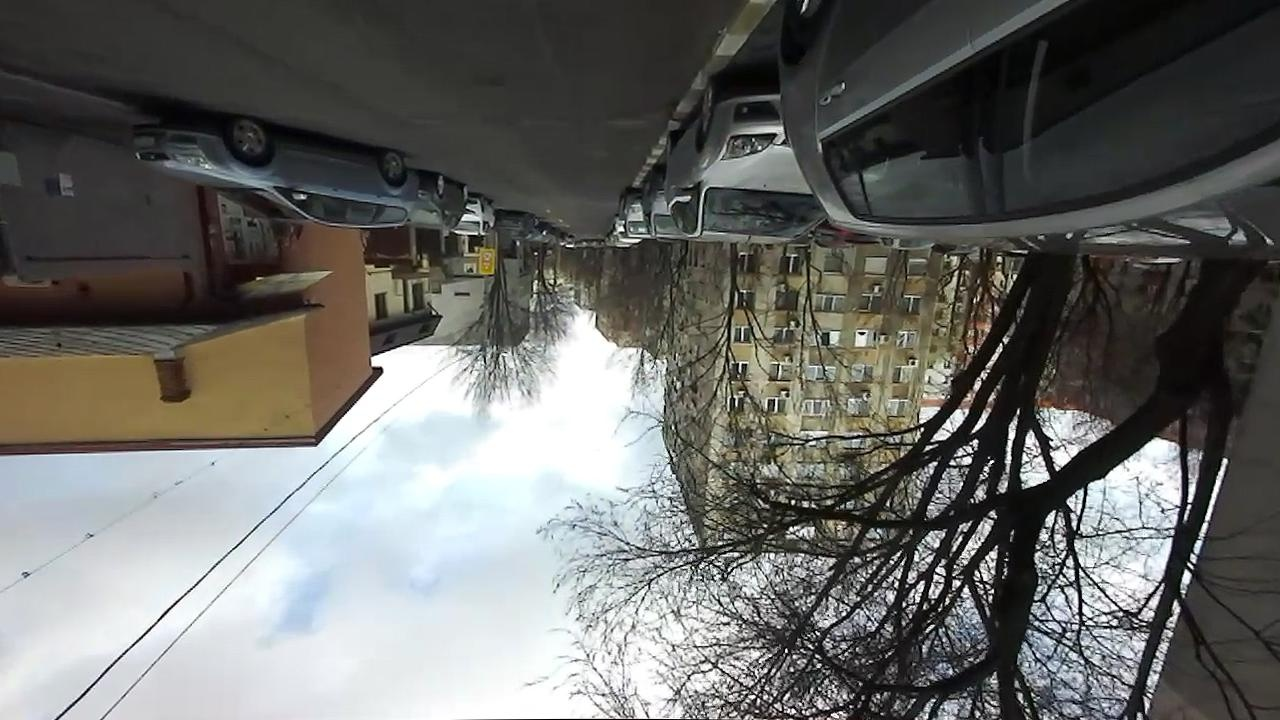pothole: (466, 72, 503, 94)
